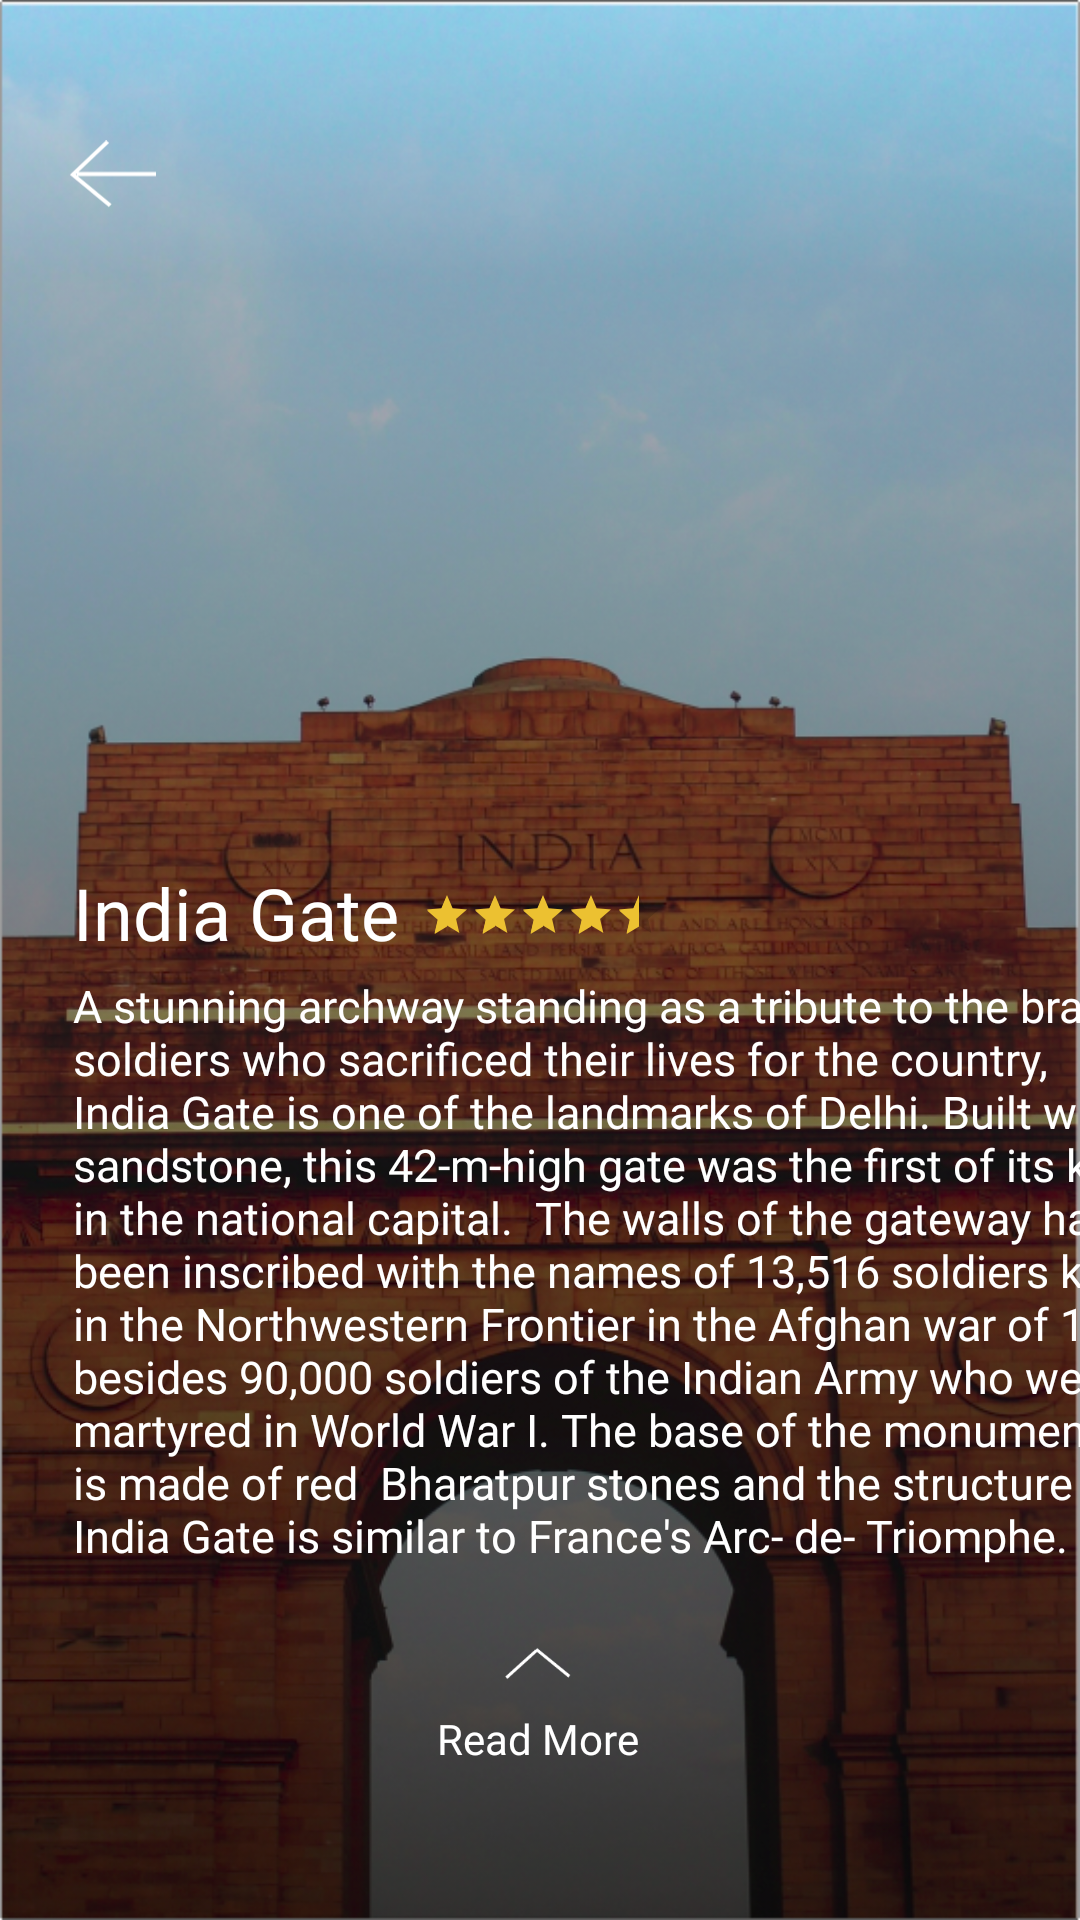

Where icons sit on this 1080w x 1920h app screen, as (x1, y1, x2, y2):
left arrow: (70, 140, 156, 207)
up arrow: (505, 1648, 570, 1679)
